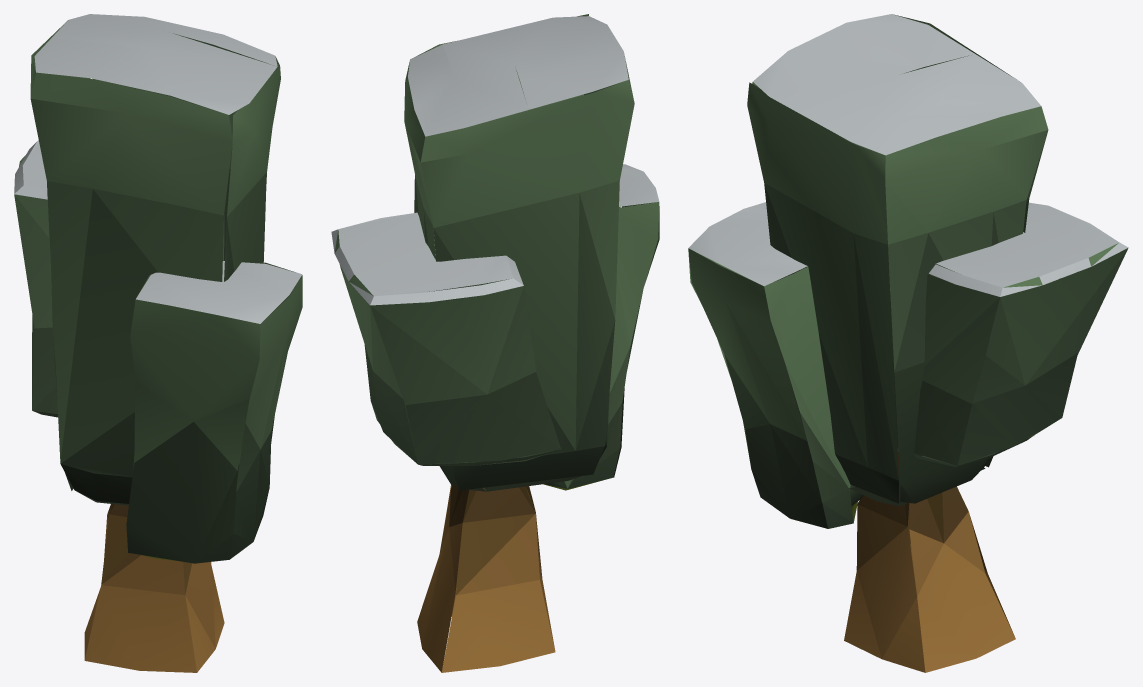
File: angular_tree_block__winter_low.glb
The picture shows the model from 3 angles, left to right: view 1: azimuth 30°, elevation 25°; view 2: azimuth 150°, elevation 25°; view 3: azimuth 270°, elevation 25°; orthographic projection. The views are drawn at different scales.
Size of the model in its own units: 2.14 by 4.81 by 3.36.
